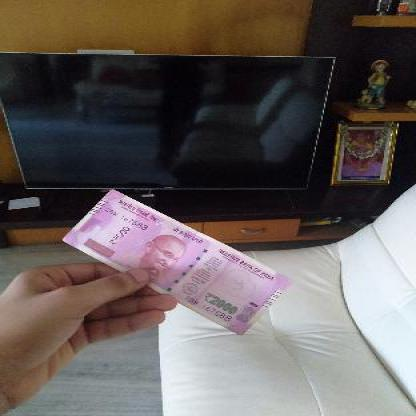New2000Front: (64, 188, 290, 334)
